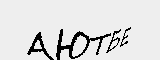А: (25, 31, 51, 60)
Б: (104, 27, 121, 56)
Е: (118, 25, 134, 51)
Т: (90, 29, 111, 54)
Ю: (54, 28, 90, 60)
